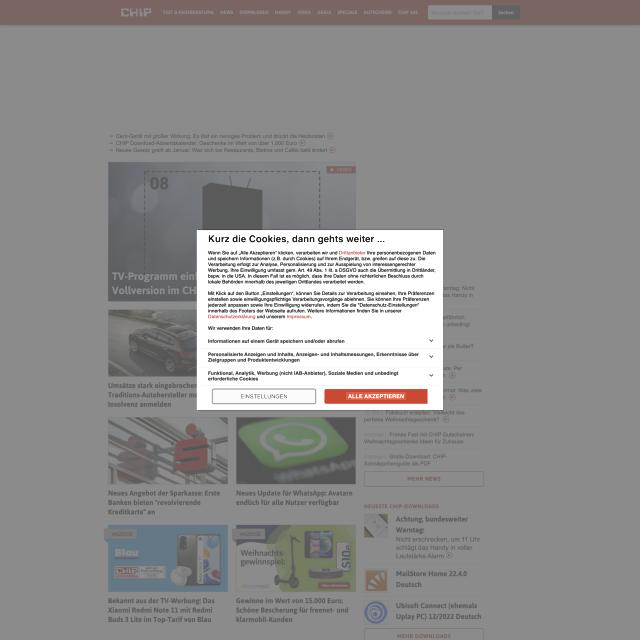CheckBox: (212, 388, 317, 406), (324, 388, 429, 405)
Input field: (207, 249, 438, 322)
data feed: (346, 392, 406, 400), (238, 392, 291, 401)
header: (198, 229, 444, 411)
image: (204, 232, 388, 246)
